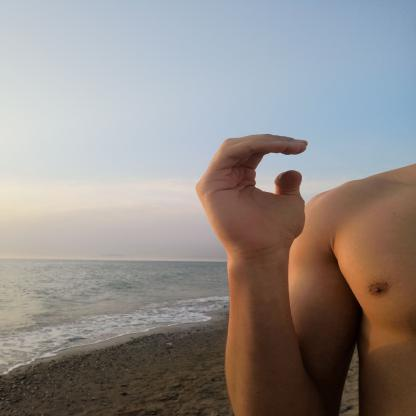JEEM: (176, 122, 328, 258)
